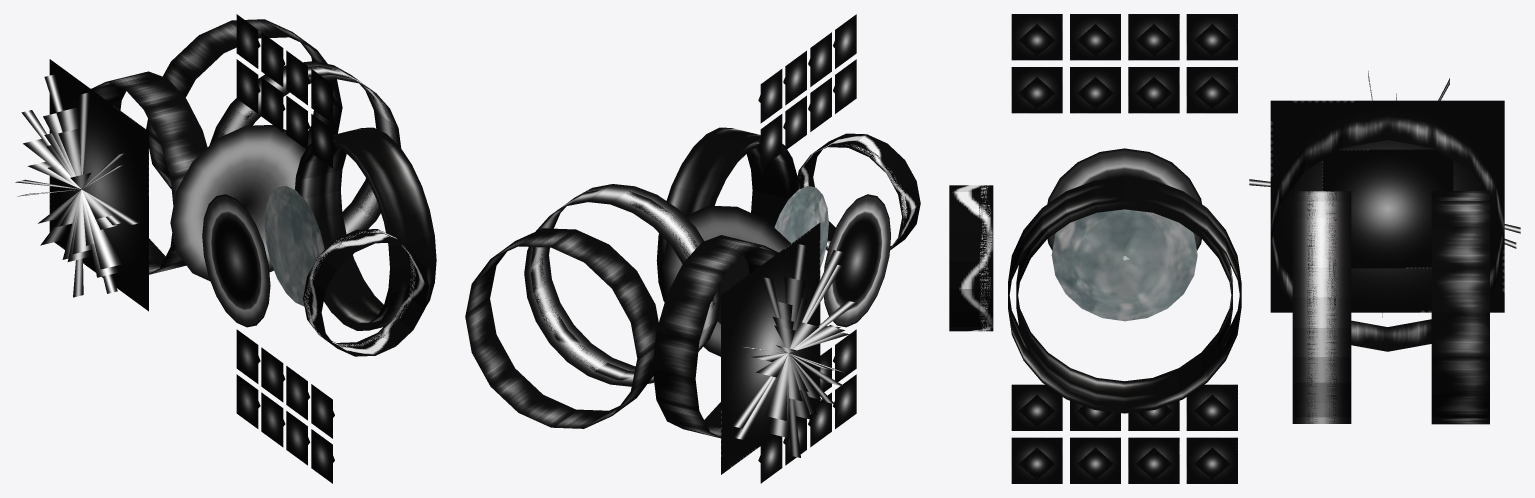
3 renders of one model, left to right at view 1: azimuth 30°, elevation 25°; view 2: azimuth 150°, elevation 25°; view 3: azimuth 270°, elevation 25°, orthographic. The views are drawn at different scales.
Parts seen in each view (by area): view 1: M_1005_1, M_1005_0; view 2: M_1005_1, M_1005_0; view 3: M_1005_1, M_1005_0.
Boxes of the visible parts, left/top/right/bottom form: M_1005_1: left=15, top=14, right=436, bottom=483; M_1005_0: left=264, top=186, right=324, bottom=306; M_1005_1: left=465, top=14, right=920, bottom=483; M_1005_0: left=718, top=186, right=828, bottom=323; M_1005_1: left=949, top=14, right=1520, bottom=483; M_1005_0: left=1051, top=209, right=1197, bottom=321.
Size of the model in its own units: 5.04 by 6.39 by 7.04.
2 materials, 2 textured.
